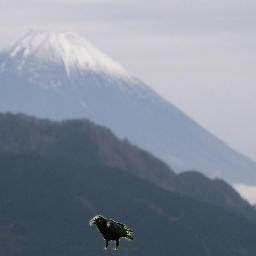Crow: (89, 216, 134, 251)
